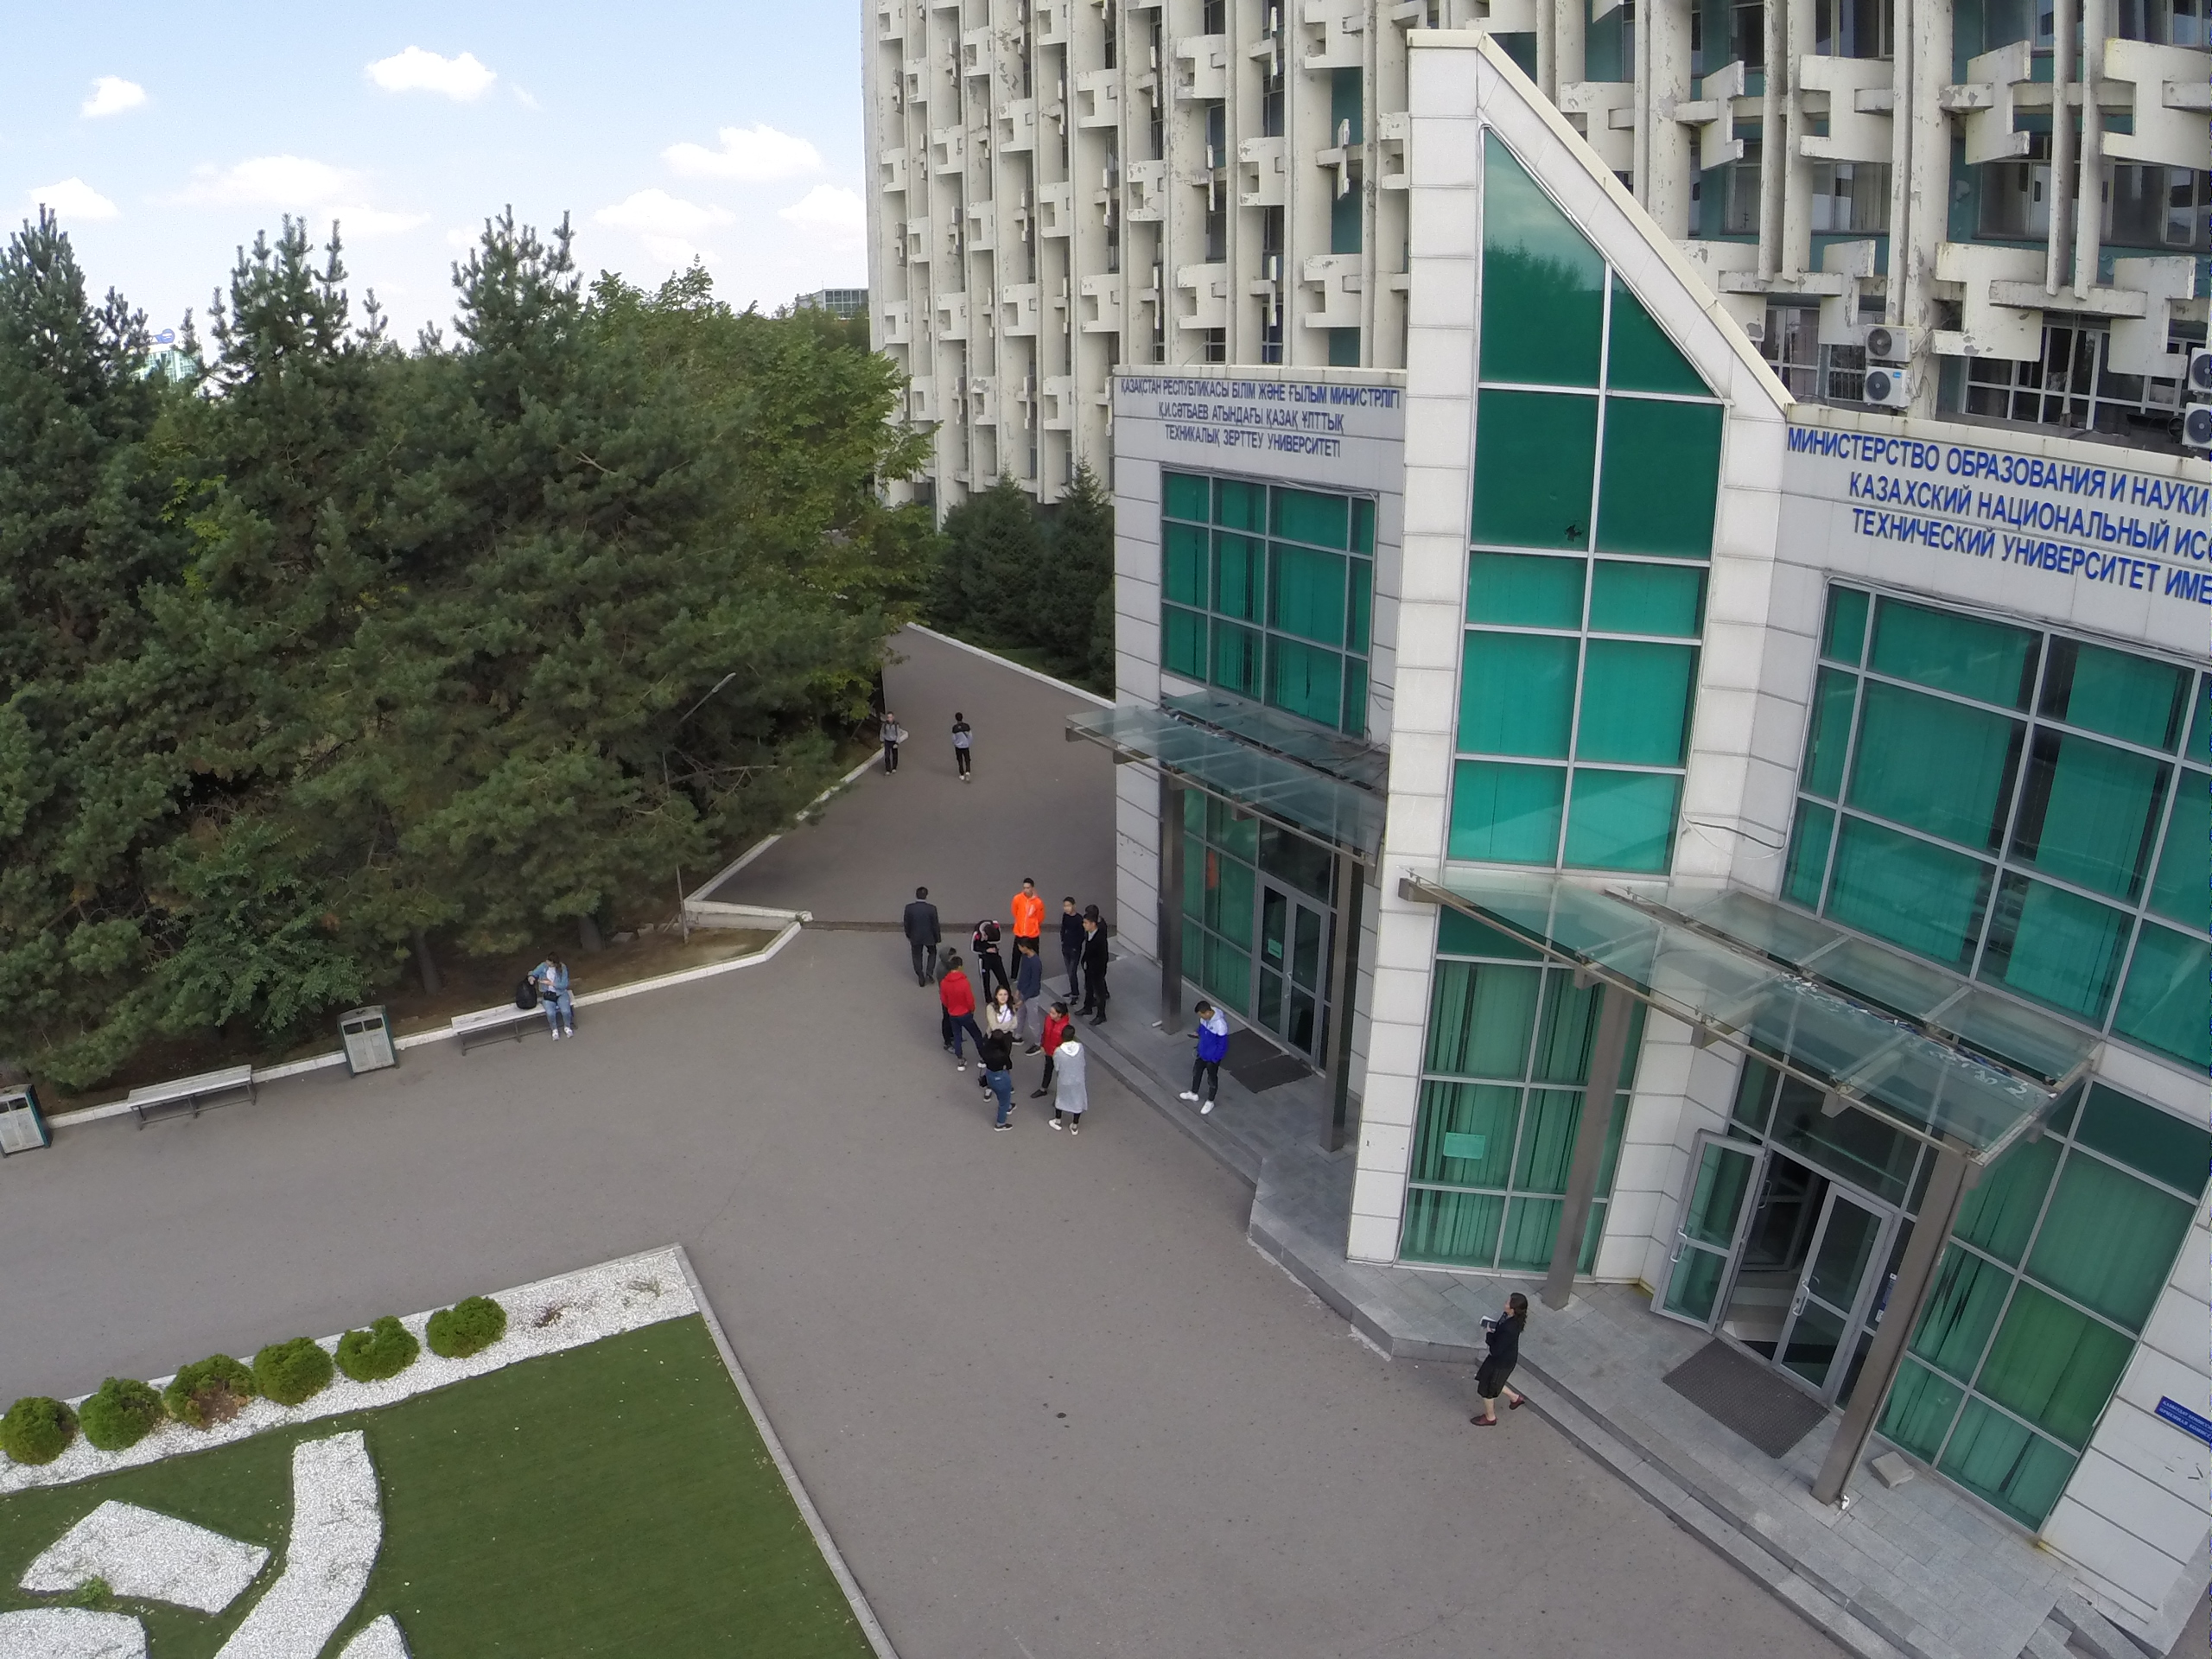person: (1462, 1293, 1528, 1434), (1179, 1000, 1229, 1116), (1046, 1027, 1090, 1138), (940, 958, 981, 1071), (1012, 937, 1046, 1055), (532, 954, 578, 1040), (902, 886, 938, 988), (982, 1030, 1014, 1133), (1082, 912, 1107, 1025), (1010, 877, 1047, 934), (948, 713, 976, 785), (977, 915, 1004, 985), (878, 711, 904, 778), (1063, 896, 1078, 998), (1043, 1001, 1074, 1027)
